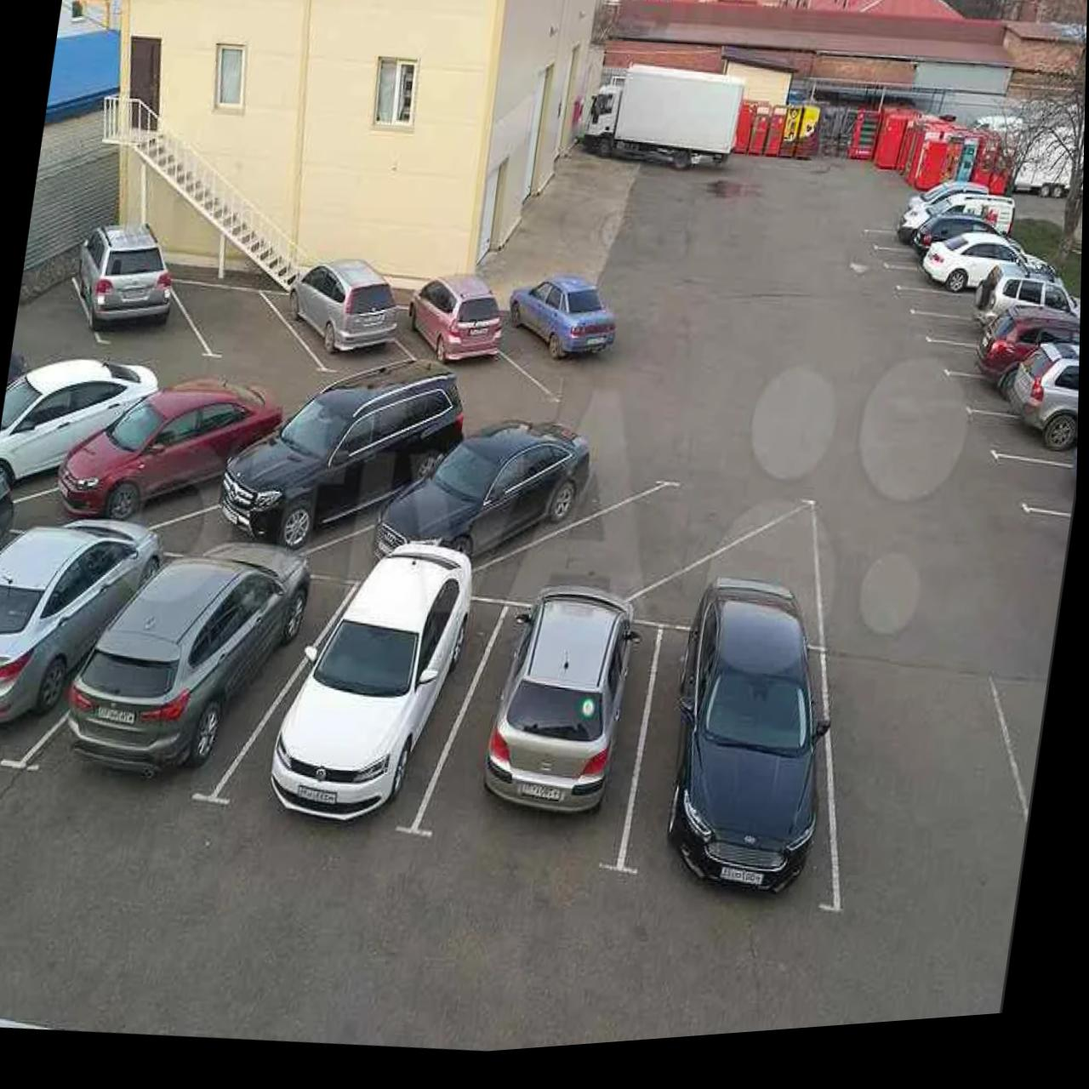cars: (63, 538, 337, 820), (243, 561, 499, 861), (623, 616, 857, 930), (430, 578, 656, 861), (352, 408, 625, 600), (192, 385, 454, 569), (27, 395, 279, 553), (0, 539, 139, 758), (0, 361, 140, 512), (494, 268, 639, 405), (389, 284, 536, 401), (64, 245, 203, 367), (271, 276, 426, 385), (946, 357, 1079, 422), (870, 236, 1045, 285), (910, 301, 1059, 358), (931, 328, 1080, 379), (897, 274, 1036, 324), (858, 216, 1007, 260), (886, 255, 1034, 299), (981, 398, 1078, 465)
empty: (518, 443, 798, 630), (173, 266, 312, 371)
